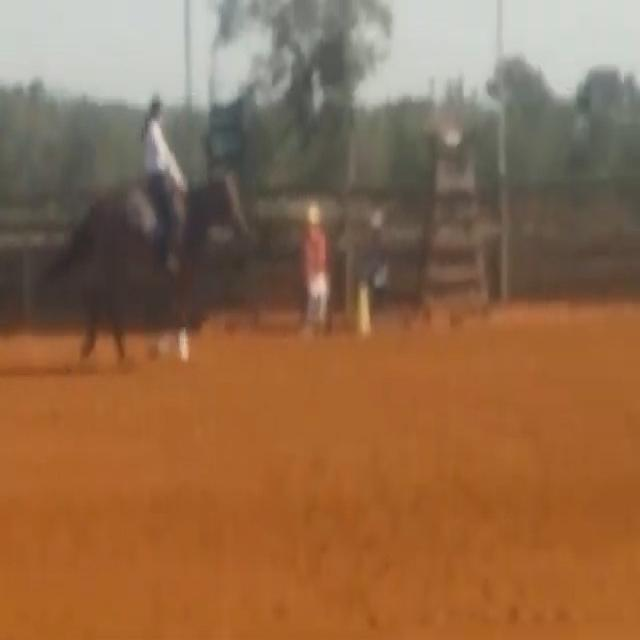horse: (36, 162, 255, 366)
